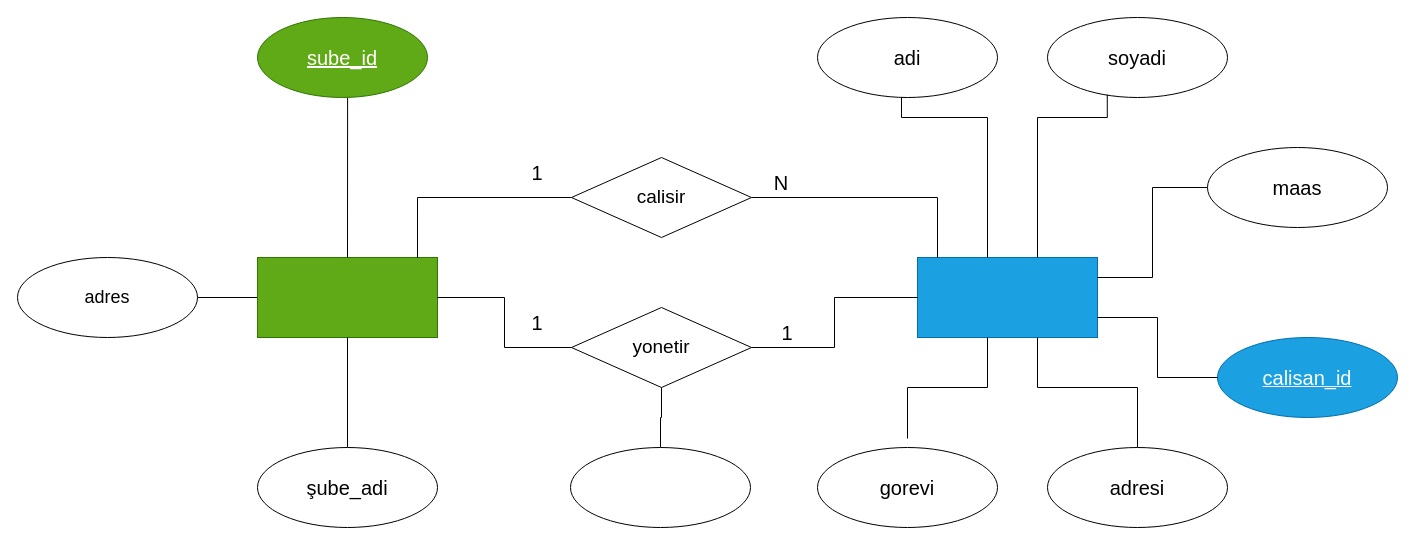
Some shapes in this 1415 by 545 pixel diagram are drawn without their labels. The shapes that lost their labels are listed below. From the top down, each one's centre as x and y in pixels, then its label:
the point at 347,297: sube
the point at 1007,297: calisan
the point at 660,487: yonetici_id
